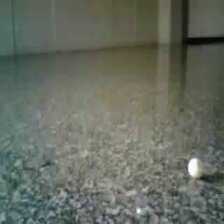w: (187, 158, 205, 178)
